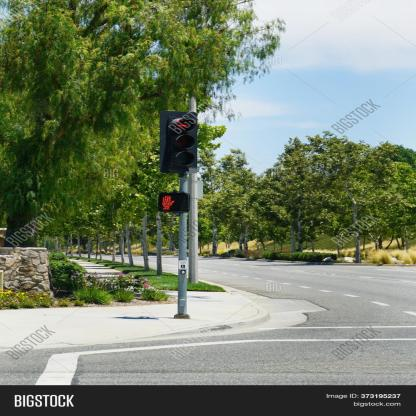Don-t Walk: (159, 193, 192, 214)
